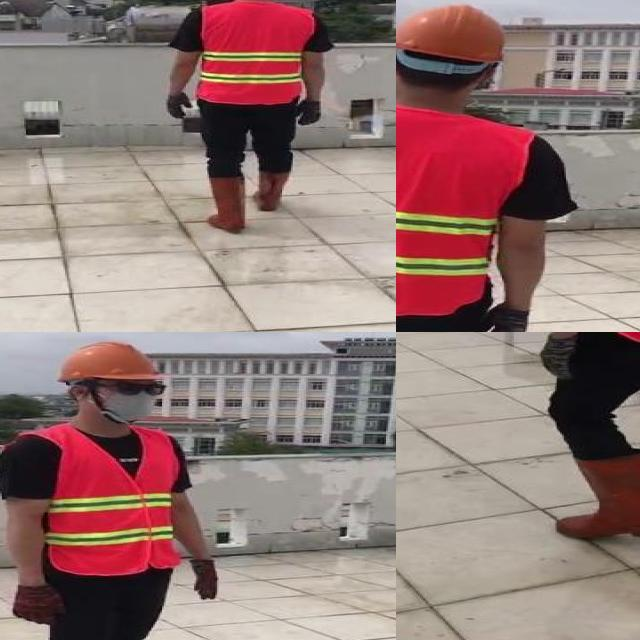boots: (555, 454, 640, 539), (206, 175, 250, 236), (254, 168, 289, 210)
face_mask: (97, 377, 168, 422)
glasses: (110, 378, 168, 398)
hand_glove: (9, 586, 70, 625), (537, 335, 580, 379), (189, 560, 224, 602), (481, 305, 527, 332), (164, 93, 190, 121), (295, 101, 321, 127)
head_helmet: (396, 0, 518, 68), (56, 341, 163, 386)
person: (0, 341, 224, 640), (396, 0, 578, 332), (517, 332, 640, 558)
vest: (396, 109, 526, 313), (43, 423, 183, 574), (198, 2, 307, 104)
